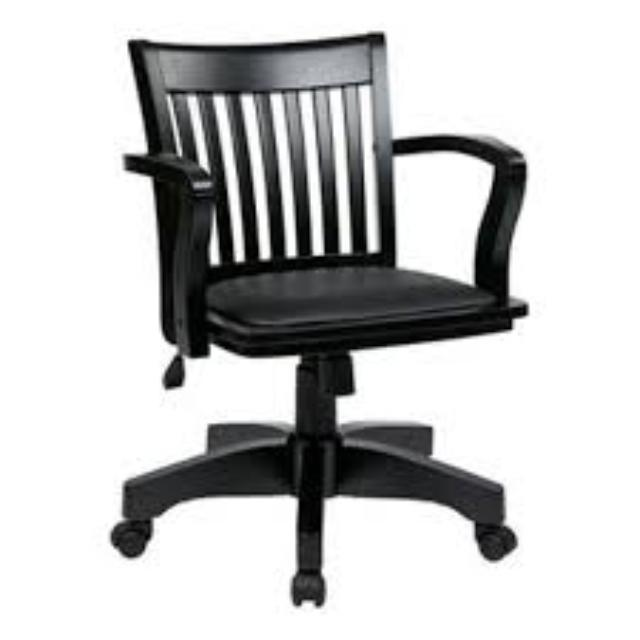obstacle: (99, 22, 541, 618)
